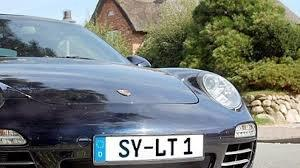license-plates: (96, 135, 204, 166)
